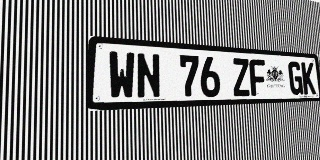6: (200, 56, 221, 97)
7: (178, 55, 201, 98)
F: (249, 59, 267, 96)
G: (288, 61, 303, 95)
K: (301, 62, 316, 95)
N: (136, 52, 161, 99)
W: (108, 51, 136, 100)
Z: (232, 58, 251, 96)
